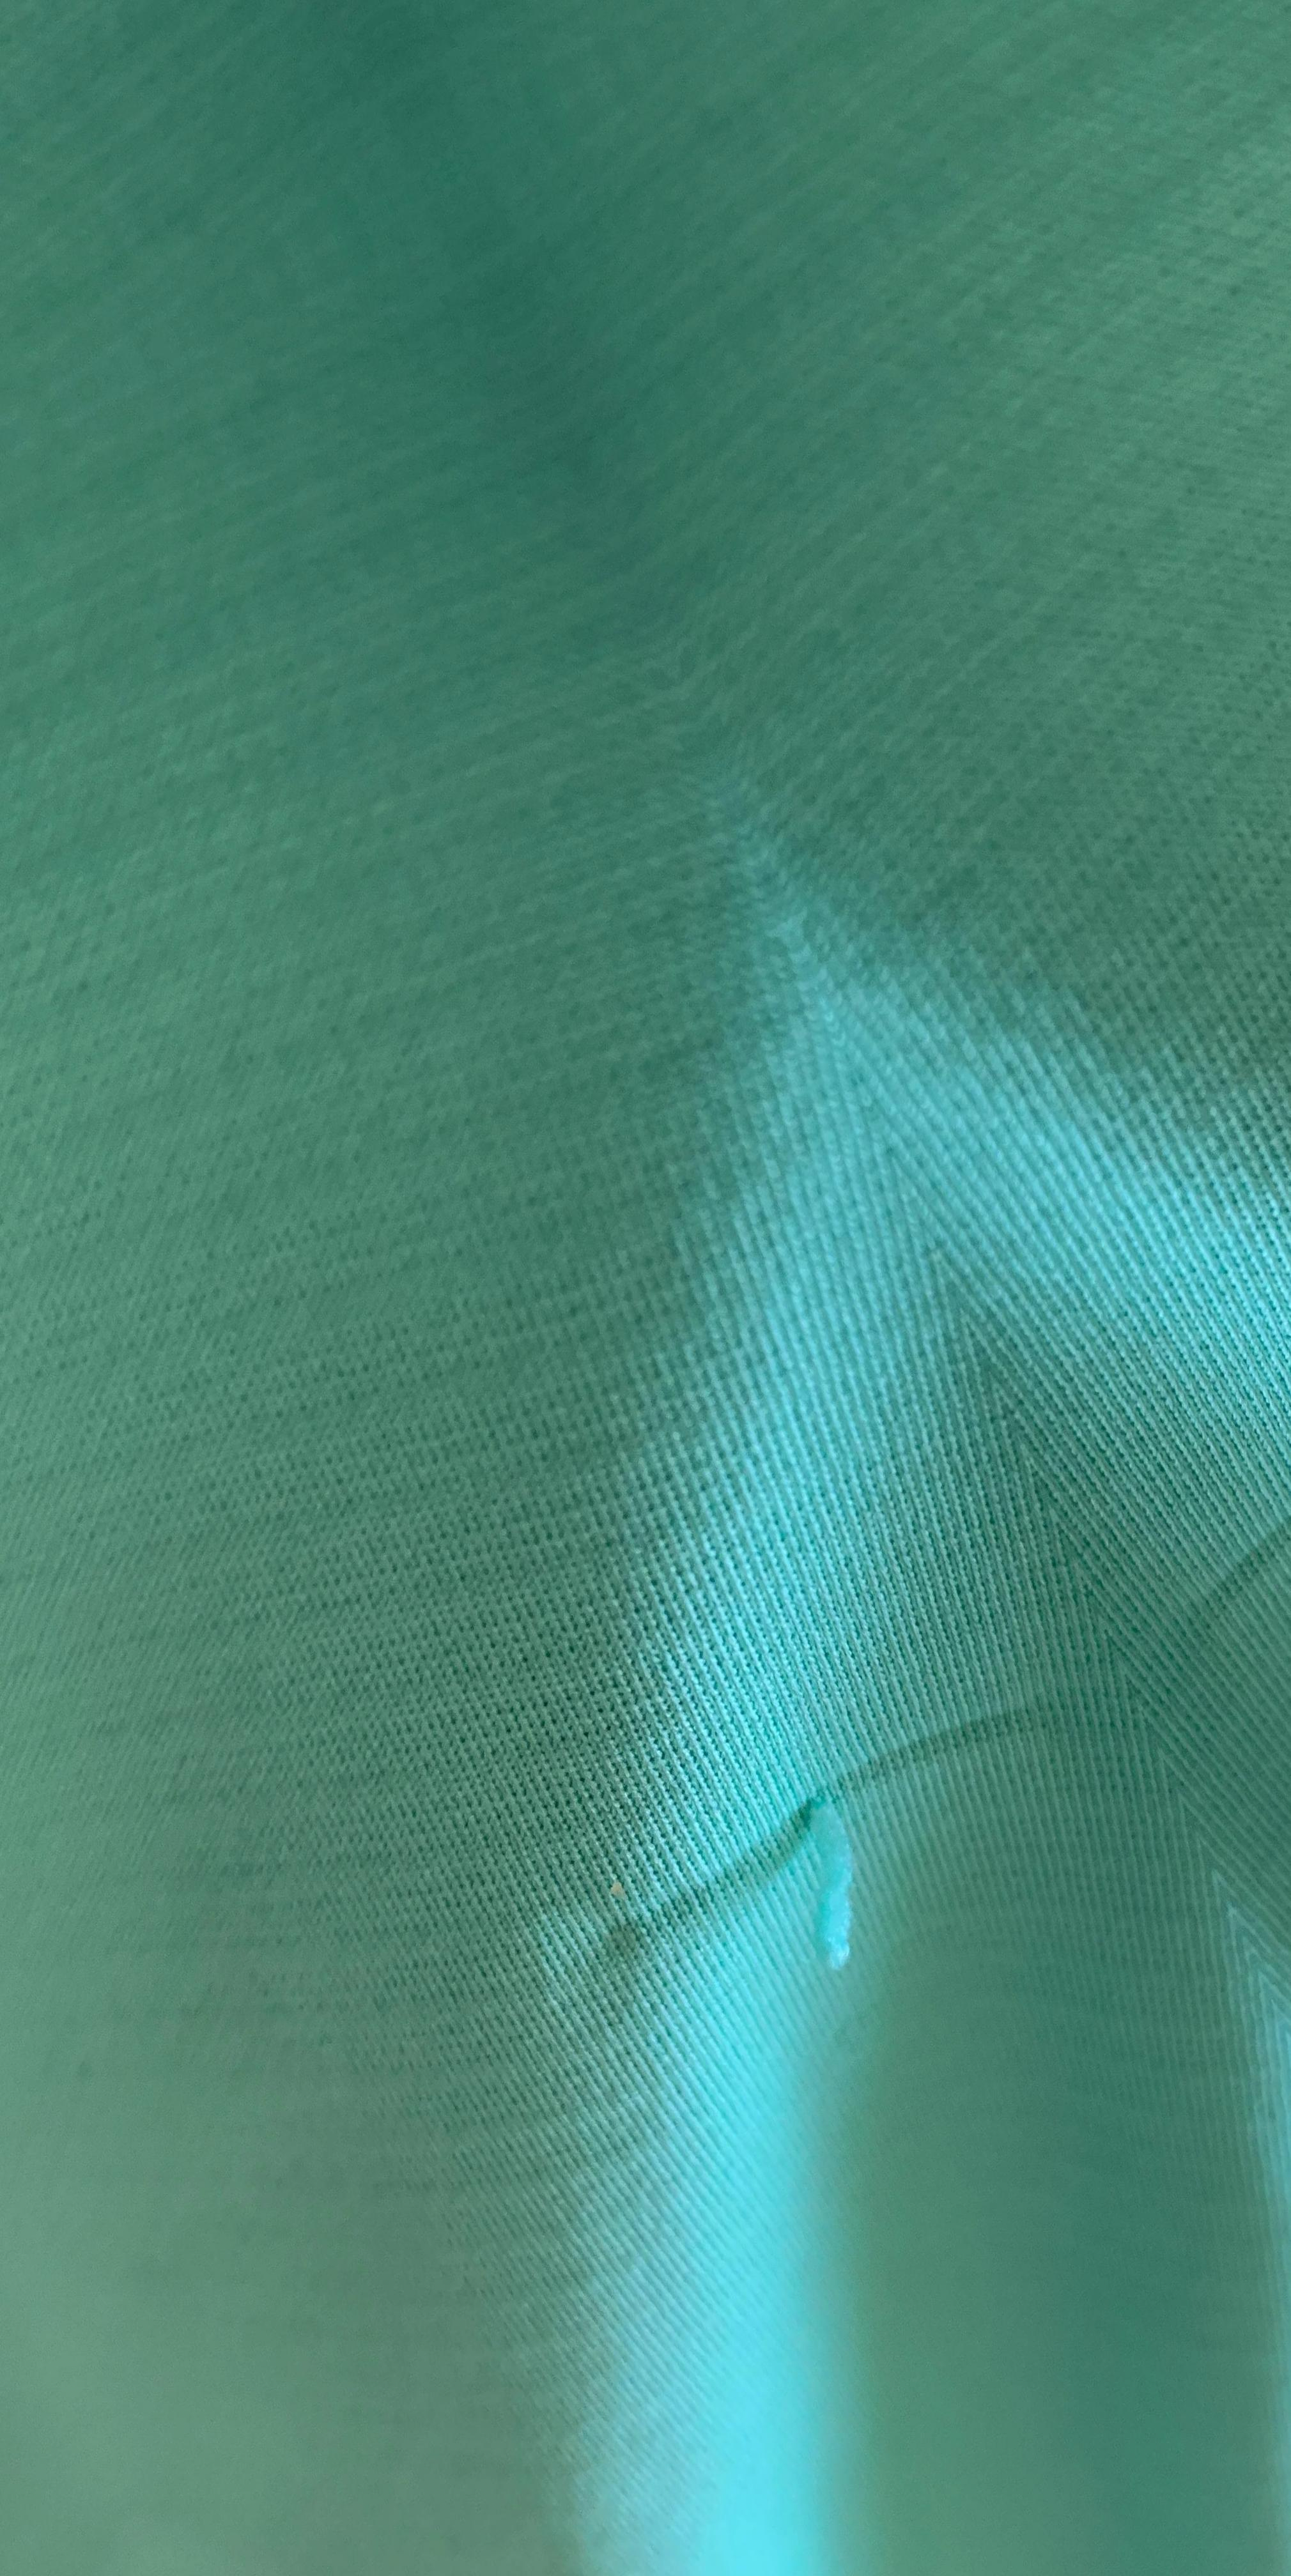snag: (739, 1741, 950, 2021)
